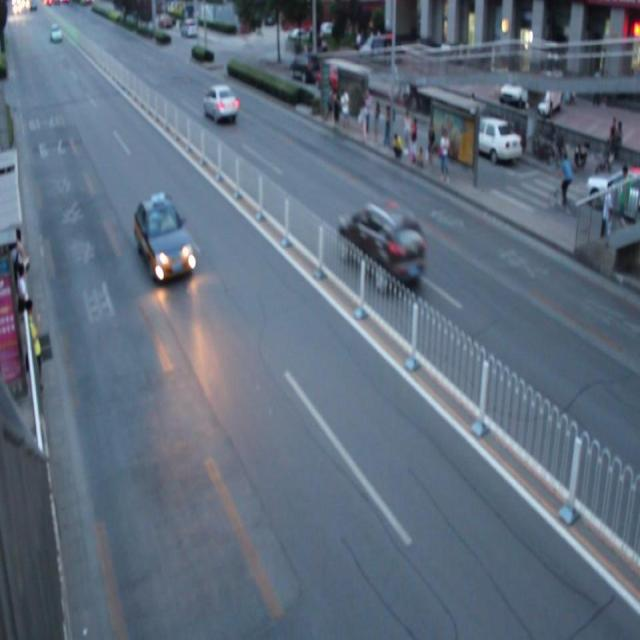car: (337, 196, 425, 291), (134, 190, 194, 289), (203, 82, 238, 124)
